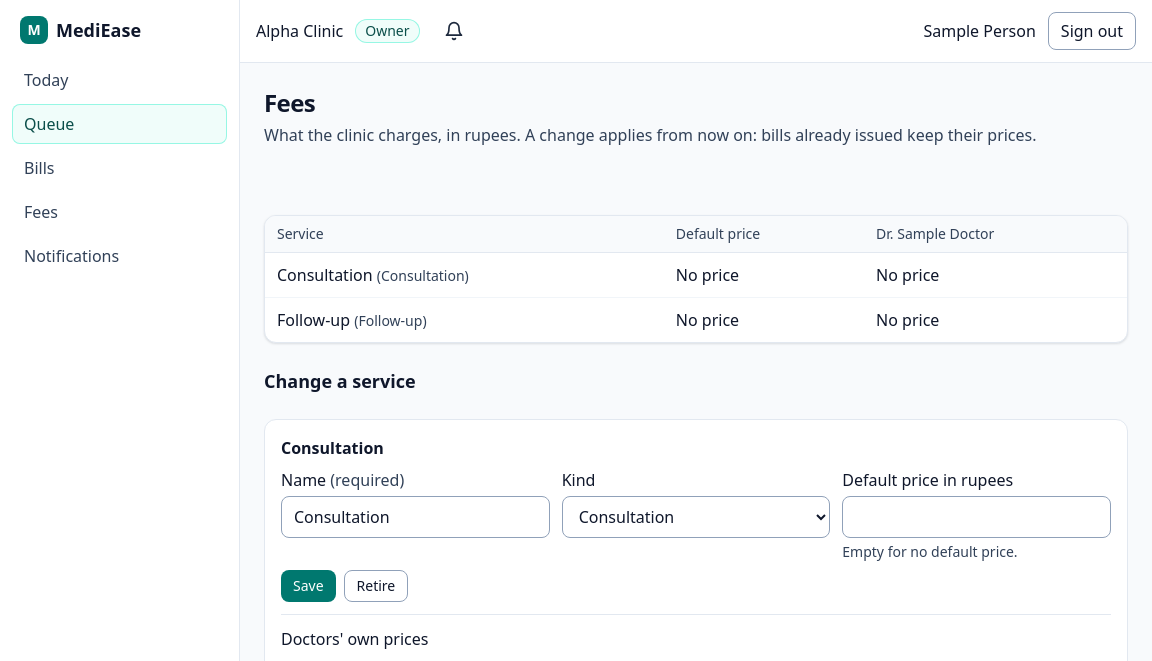
Test: the fee schedule (M6d-P1, FR-BIL-01, billing R1-R4) › refuses a price the API would refuse, before sending it
This screenshot has width=1152, height=661.
Type "100000.01" into the field labelled "Default price in rupees" at x=977, y=517, box [842,496,1111,538]
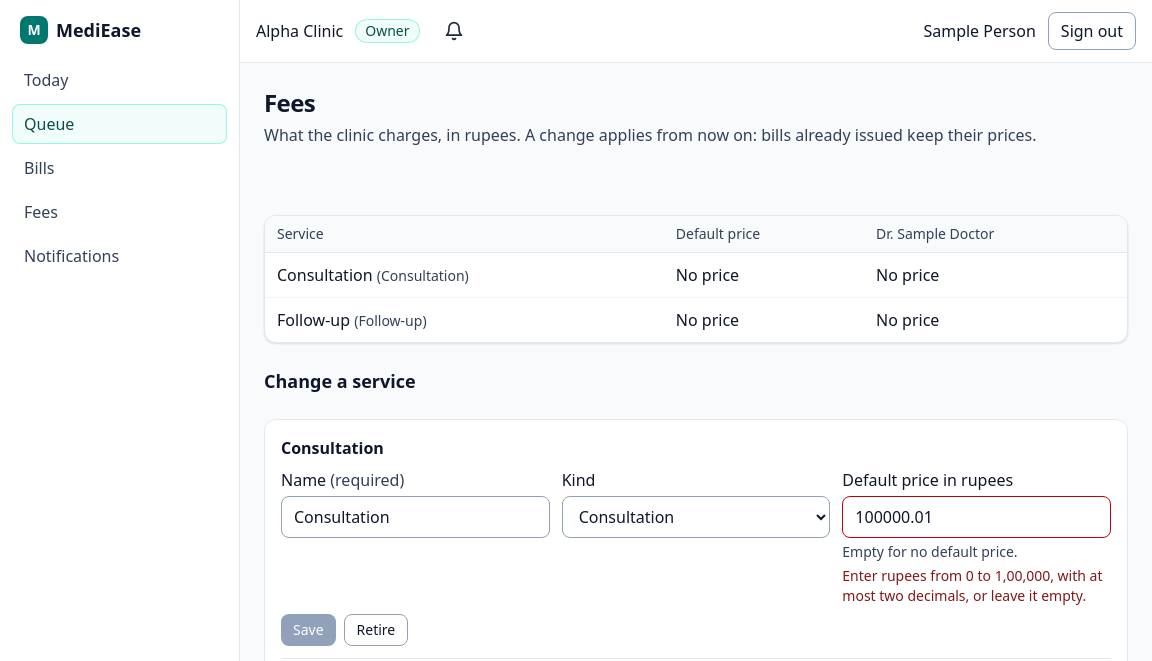
Now the button named "Save Consultation" is disabled, box [281,614,336,646]
